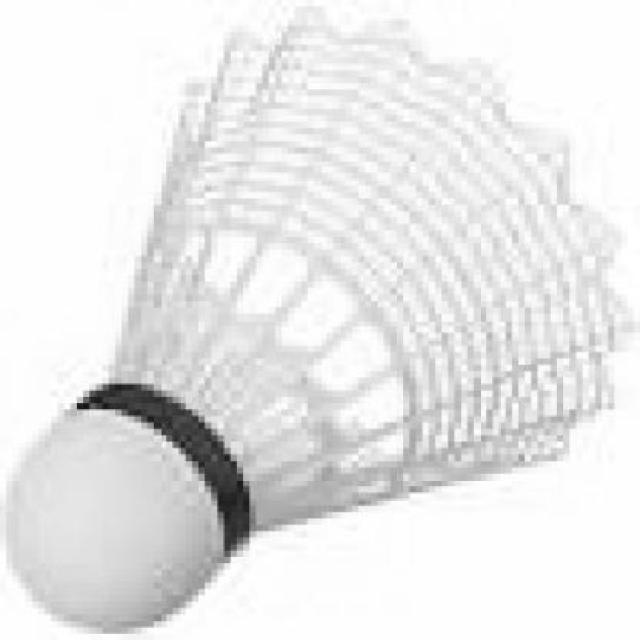Shuttlecock: (3, 6, 635, 637)
